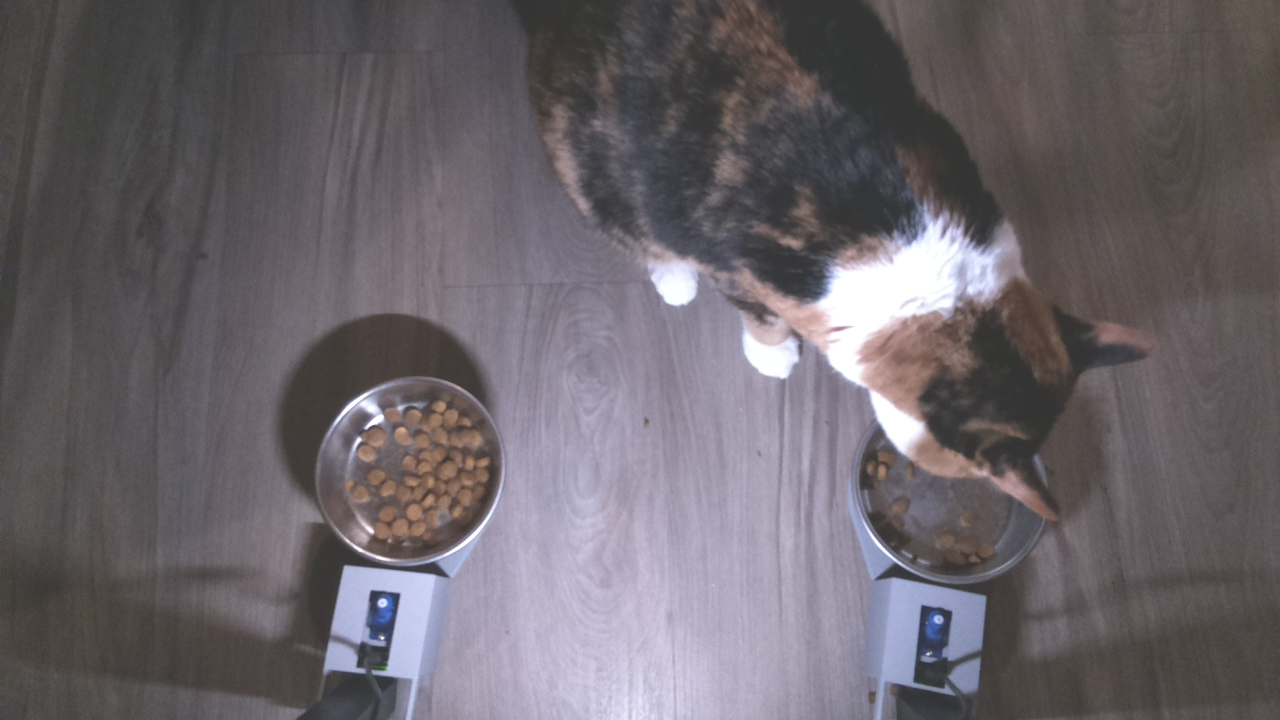bella_eating: (826, 263, 1161, 599)
open_bowl: (311, 371, 506, 569)
